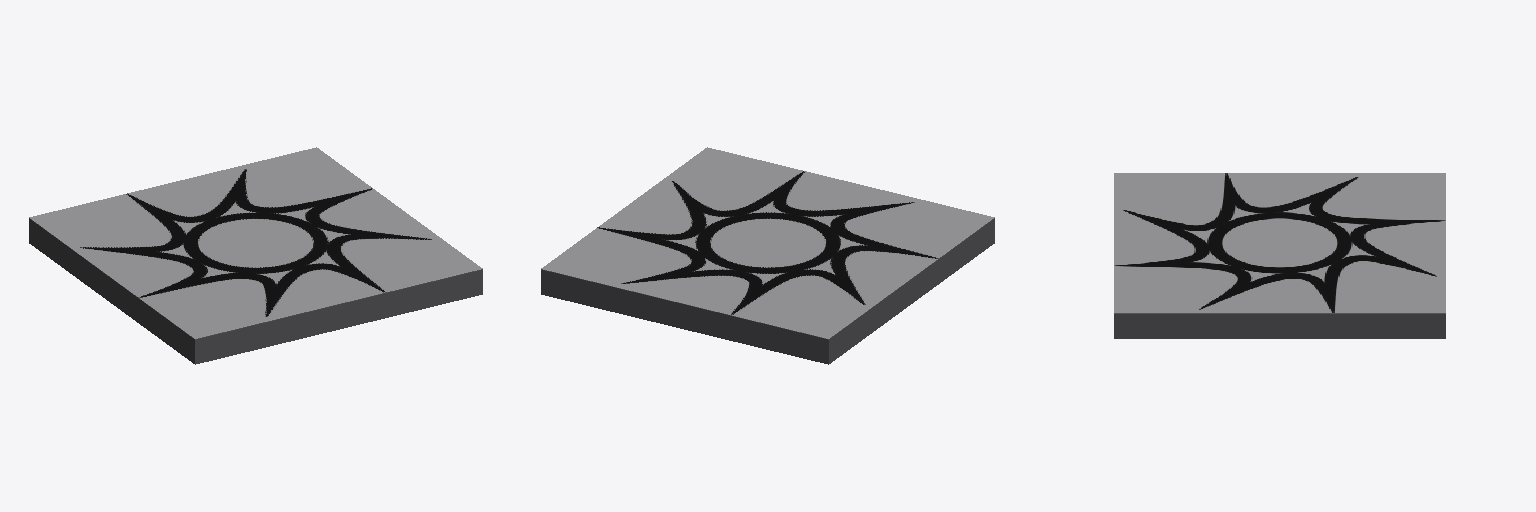
The picture shows the model from 3 angles: view 1: azimuth 30°, elevation 25°; view 2: azimuth 150°, elevation 25°; view 3: azimuth 270°, elevation 25°; orthographic projection.
Visible parts, largest first — view 1: Spawnlocation2, Spawnlocation1; view 2: Spawnlocation2, Spawnlocation1; view 3: Spawnlocation2, Spawnlocation1.
Boxes of the visible parts, x1,y1,x2,y2 form: Spawnlocation2: [29, 147, 482, 338]; Spawnlocation1: [29, 218, 482, 364]; Spawnlocation2: [541, 147, 994, 338]; Spawnlocation1: [541, 218, 994, 364]; Spawnlocation2: [1114, 173, 1445, 312]; Spawnlocation1: [1114, 313, 1445, 338].
Size of the model in its own units: 12 by 1.02 by 12.
2 materials, 1 textured.